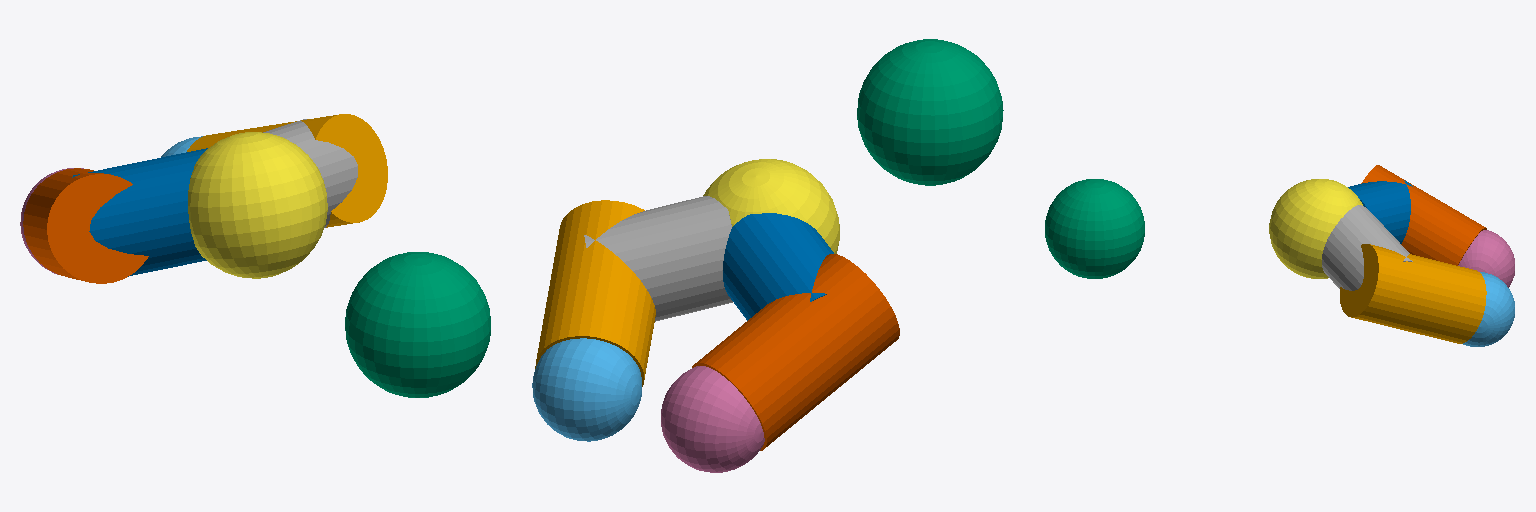
robot.urdf — ant_with_mesh:
<?xml version="1.0"?>
<!-- Link Definitions -->
<robot name="ant_with_mesh">
<link name="base_link">
</link>

<!-- ************************************************************** -->
<!-- Ant Head Definition -->
<link name="head">
   <inertial>
     <origin xyz="0 0 0" rpy="0 0 0"/>
     <mass value="1"/>
     <inertia ixx="100"  ixy="0"  ixz="0" iyy="100" iyz="0" izz="100" />
   </inertial>
    <visual>
      <geometry>
      <mesh filename="package://simplified_messor_head.stl"/>
      </geometry>
    </visual>
    <collision>
      <origin rpy="0 0 0" xyz="0 0 0"/>   
      <geometry>
      <sphere radius="0.5"/>
      
      </geometry>
    </collision>
</link>

<link name="neck">
   <inertial>
     <origin xyz="0 0 0" rpy="0 0 0"/>
     <mass value="1"/>
     <inertia ixx="100"  ixy="0"  ixz="0" iyy="100" iyz="0" izz="100" />
   </inertial>
    <visual>
      <geometry>
        <sphere radius="0.2"/>
      </geometry>
    </visual>
    <collision>
      <geometry>
        <sphere radius="0.2"/>
      </geometry>
    </collision>
</link>

 <!-- <joint name="neck_joint_1" type="revolute"> -->
 <joint name="neck_joint_1" type="fixed">
     <origin xyz="0.0 0.0 0.0" rpy="0.0 0.0 0.0"/>
     <parent link="base_link"/>
     <child link="neck"/>
     <!-- <axis xyz="1.0 0.0 0.0"/>
     <limit lower="-1.0" upper="1.0" effort="0.5" velocity="0.5"/> -->
 </joint>


  <!-- Joint Definitions Neck-->
  <!-- <joint name="neck_joint_2" type="revolute"> -->
  <joint name="neck_joint_2" type="fixed">
     <origin xyz="0.0 0.69 0.2" rpy="0.0 0.0 0.0"/>
     <parent link="neck"/>
     <child link="head"/>
     <!-- <axis xyz="0.0 1.0 0.0"/>
     <limit lower="-1.0" upper="1.0" effort="0.0" velocity="0.0"/> -->
 </joint>
<!-- ************************************************************** -->
 <!-- Ant Mandible Definition -->
<!-- Link Definitions Mandible-->
<link name="mandible_base_link">
   <inertial>
     <origin xyz="0 0 0" rpy="0 0 0"/>
     <mass value="0.01"/>
     <inertia ixx="100"  ixy="0"  ixz="0" iyy="100" iyz="0" izz="100" />
   </inertial>
    <visual>
      <geometry>
        <sphere radius="0.2"/>
      </geometry>
    </visual>
    <collision>
      <geometry>
        <sphere radius="0.2"/>
      </geometry>
    </collision>
</link>

<!-- Left Jaw -->
<link name="left_jaw_base">
   <inertial>
     <origin xyz="0 0 0" rpy="0 0 0"/>
     <mass value="0.1"/>
     <inertia ixx="100"  ixy="0"  ixz="0" iyy="100" iyz="0" izz="100" />
   </inertial>
    <visual>
    <origin xyz="0.0 0.0 0.0" rpy="0.0 0.0 0.0"/>
      <geometry>
        <cylinder radius="0.15" length="0.4"/>
      </geometry>

    </visual>
    <collision>
    <origin xyz="0.0 0.0 0.0" rpy="0.0 0.0 0.0"/>
      <geometry>
        <cylinder radius="0.15" length="0.4"/>
      </geometry>
    </collision>
  </link>

<link name="left_jaw">
   <inertial>
     <origin xyz="0 0 0" rpy="0 0 0"/>
     <mass value="1"/>
     <inertia ixx="100"  ixy="0"  ixz="0" iyy="100" iyz="0" izz="100" />
   </inertial>
    <visual>
    <origin xyz="0.0 0.0 0.0" rpy="0.0 0.0 0.0"/>
      <geometry>
        <cylinder radius="0.15" length="0.5"/>
      </geometry>

    </visual>
    <collision>
    <origin xyz="0.0 0.0 0.0" rpy="0.0 0.0 0.0"/>
      <geometry>
        <cylinder radius="0.15" length="0.5"/>
      </geometry>
    </collision>
  </link>

  <link name="left_jaw_tip">
     <inertial>
     <origin xyz="0 0 0" rpy="0 0 0"/>
     <mass value="0.1"/>
     <inertia ixx="100"  ixy="0"  ixz="0" iyy="100" iyz="0" izz="100" />
   </inertial>
    <visual>
    <origin xyz="0.0 0.0 0.0" rpy="0.0 0.0 0.0"/>
      <geometry>
        <sphere radius="0.15"/>
      </geometry>

    </visual>
            <collision>
    <origin xyz="0.0 0.0 0.0" rpy="0.0 0.0 0.0"/>
      <geometry>
        <sphere radius="0.15"/>
      </geometry>
    </collision>
  </link>

<!-- Right Jaw -->
  <link name="right_jaw_base">
       <inertial>
     <origin xyz="0 0 0" rpy="0 0 0"/>
     <mass value="0.1"/>
     <inertia ixx="100"  ixy="0"  ixz="0" iyy="100" iyz="0" izz="100" />
   </inertial>
    <visual>
    <origin xyz="0.0 0.0 0.0" rpy="0.0 0.0 0.0"/>
      <geometry>
        <cylinder radius="0.15" length="0.4"/>
      </geometry>

    </visual>
        <collision>
    <origin xyz="0.0 0.0 0.0" rpy="0.0 0.0 0.0"/>
      <geometry>
        <cylinder radius="0.15" length="0."/>
      </geometry>
    </collision>
  </link>

  <link name="right_jaw">
       <inertial>
     <origin xyz="0 0 0" rpy="0 0 0"/>
     <mass value="1"/>
     <inertia ixx="100"  ixy="0"  ixz="0" iyy="100" iyz="0" izz="100" />
   </inertial>
    <visual>
    <origin xyz="0.0 0.0 0.0" rpy="0.0 0.0 0.0"/>
      <geometry>
        <cylinder radius="0.15" length="0.5"/>
      </geometry>
    </visual>
    <collision>
    <origin xyz="0.0 0.0 0.0" rpy="0.0 0.0 0.0"/>
      <geometry>
        <cylinder radius="0.15" length="0.5"/>
      </geometry>
    </collision>
  </link>

  <link name="right_jaw_tip">
       <inertial>
     <origin xyz="0 0 0" rpy="0 0 0"/>
     <mass value="0.1"/>
     <inertia ixx="100"  ixy="0"  ixz="0" iyy="100" iyz="0" izz="100" />
   </inertial>
    <visual>
    <origin xyz="0.0 0.0 0.0" rpy="0.0 0.0 0.0"/>
      <geometry>
        <sphere radius="0.15"/>
      </geometry>

    </visual>
        <collision>
    <origin xyz="0.0 0.0 0.0" rpy="0.0 0.0 0.0"/>
      <geometry>
        <sphere radius="0.15"/>
      </geometry>
    </collision>
  </link>

  <!-- Joint Definitions Mandible -->
 <joint name="left_attachment" type="revolute">
     <origin xyz="0.2 0.2 0.0" rpy="-0.95 1.7 0.0"/>
     <parent link="mandible_base_link"/>
     <child link="left_jaw_base"/>
     <axis xyz="-1.0 0.0 0.0"/>
     <limit lower="-0.1" upper="0.5" effort="1" velocity="1.0"/>

 </joint>
  <joint name="right_attachment" type="revolute">
     <origin xyz="0.2 -0.2 0.0" rpy="0.95 1.7 0.0"/>
     <parent link="mandible_base_link"/>
     <child link="right_jaw_base"/>
     <axis xyz="1.0 0.0 0.0"/>
     <limit lower="-0.1" upper="0.5" effort="1.0" velocity="1.0"/>

 </joint>


    <joint name="fixed_left_1" type="fixed">
     <origin xyz="0.0 -0.1 0.2" rpy="1.3 0.0 0.0"/>

        <parent link="left_jaw_base"/>
        <child link="left_jaw"/>
    </joint>
        <joint name="fixed_left_2" type="fixed">
        <origin xyz="0.0 0.0 0.3" rpy="1.3 0.0 0.0"/>

        <parent link="left_jaw"/>
        <child link="left_jaw_tip"/>
    </joint>

        <joint name="fixed_right_1" type="fixed">
     <origin xyz="0.0 0.1 0.2" rpy=" -1.3 0.0 0.0"/>

        <parent link="right_jaw_base"/>
        <child link="right_jaw"/>
    </joint>
        <joint name="fixed_right_2" type="fixed">
        <origin xyz="0.0 0.0 0.3" rpy="-1.3 0.0 0.0"/>

        <parent link="right_jaw"/>
        <child link="right_jaw_tip"/>
    </joint>

<!-- Attach mandible to head -->
 <joint name="head_mandible" type="fixed">
     <origin xyz="0.0 0.2 -0.2" rpy="0.0 0.3 1.57"/>
     <axis xyz="0.0 0.0 0.0"/>
     <parent link="head"/>
     <child link="mandible_base_link"/>
 </joint>

</robot>

--- Render facts (derived) ---
3 views of the same robot in one strip: view 1: azimuth 30°, elevation 25°; view 2: azimuth 150°, elevation 25°; view 3: azimuth 270°, elevation 25° (orthographic).
Robot: ant_with_mesh — 10 links, 9 joints (2 revolute, 7 fixed); root link base_link; default pose: every joint at zero.
Visible links, largest first — view 1: neck, mandible_base_link, left_jaw_base, left_jaw, right_jaw, right_jaw_base; view 2: left_jaw, neck, right_jaw, right_jaw_base, right_jaw_tip, left_jaw_tip, left_jaw_base, mandible_base_link; view 3: right_jaw, neck, mandible_base_link, left_jaw, right_jaw_base, left_jaw_base, right_jaw_tip, left_jaw_tip.
Link boxes in pixels (<box>): neck: <box>345,252,490,397</box>; mandible_base_link: <box>188,132,327,278</box>; left_jaw_base: <box>72,148,207,276</box>; left_jaw: <box>23,168,148,283</box>; right_jaw: <box>187,114,387,227</box>; right_jaw_base: <box>263,119,357,227</box>; left_jaw: <box>692,254,899,450</box>; neck: <box>857,39,1003,185</box>; right_jaw: <box>535,200,655,386</box>; right_jaw_base: <box>584,196,732,321</box>; right_jaw_tip: <box>532,338,641,441</box>; left_jaw_tip: <box>661,366,764,472</box>; left_jaw_base: <box>723,213,833,320</box>; mandible_base_link: <box>703,159,839,253</box>; right_jaw: <box>1340,244,1486,343</box>; neck: <box>1045,179,1144,278</box>; mandible_base_link: <box>1269,179,1362,278</box>; left_jaw: <box>1361,165,1486,265</box>; right_jaw_base: <box>1322,205,1412,290</box>; left_jaw_base: <box>1348,180,1412,243</box>; right_jaw_tip: <box>1463,272,1514,346</box>; left_jaw_tip: <box>1458,230,1514,287</box>.
Size in the robot's own frame: 1.06 by 1.87 by 0.6085 metres.
Geometry: only primitive shapes (box / cylinder / sphere) drawn; not drawn: 1 mesh visual (reference in a form the renderer does not follow).